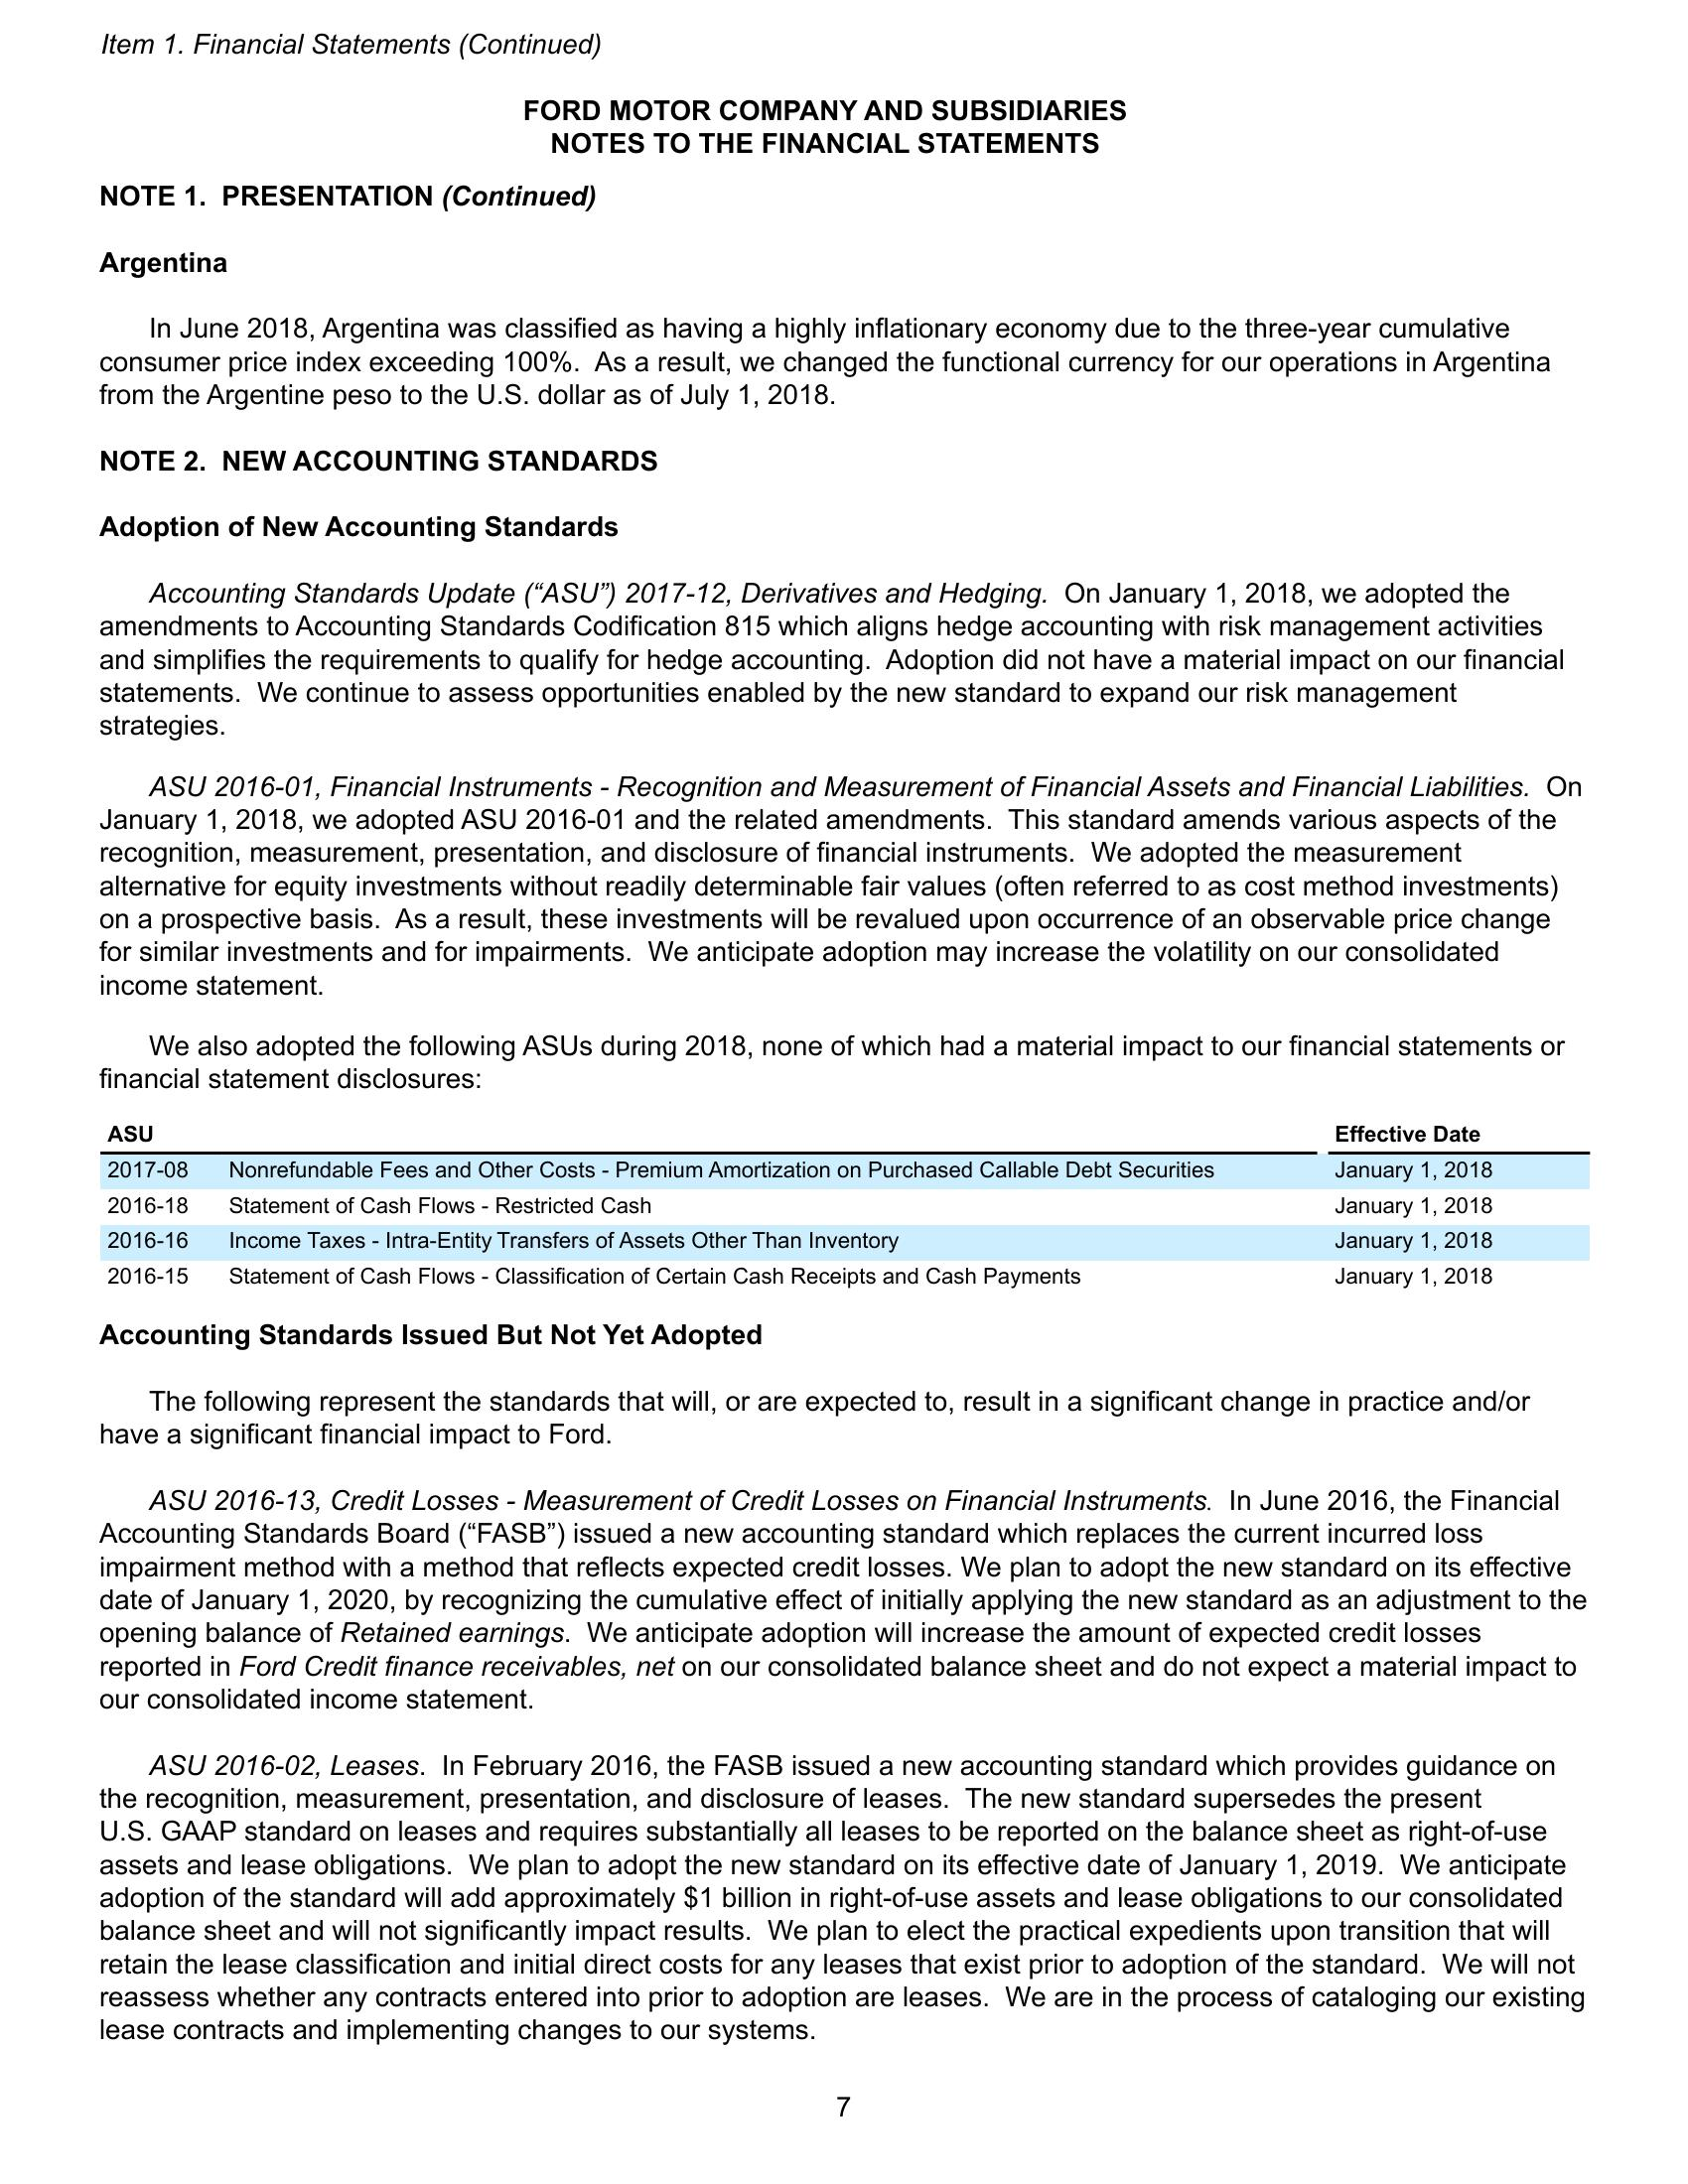table: (98, 1113, 1596, 1301)
